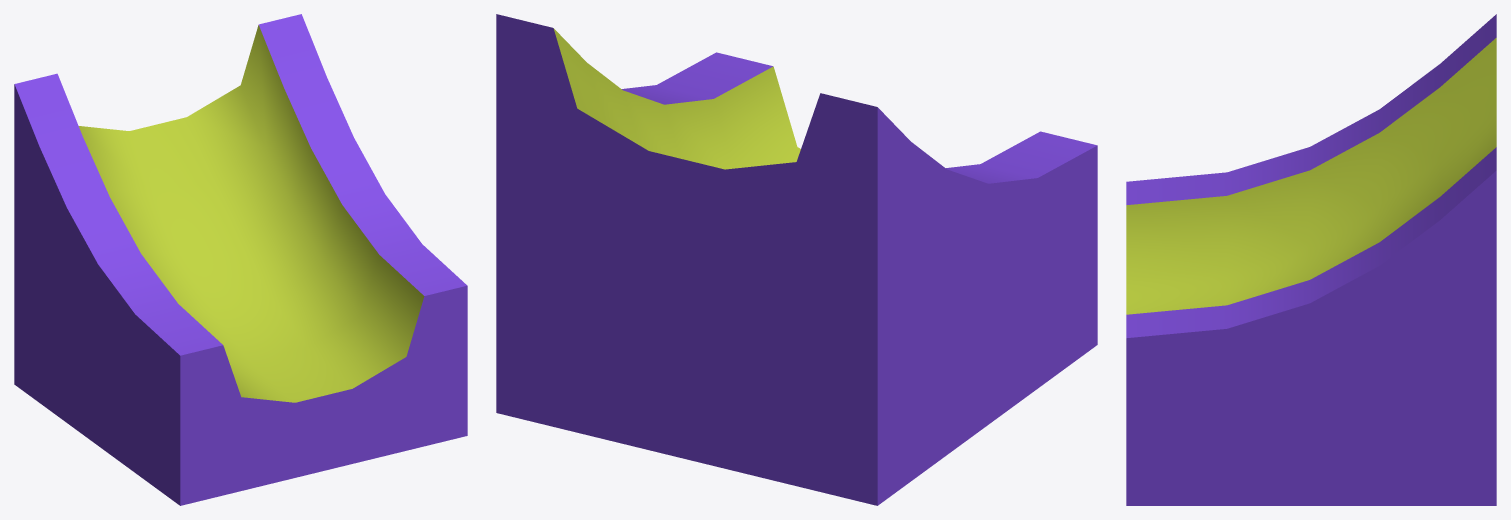
The model's file is rampStart_solid_C-col.dae.
3 renders of one model, left to right at view 1: azimuth 30°, elevation 25°; view 2: azimuth 150°, elevation 25°; view 3: azimuth 270°, elevation 25°, orthographic. The views are drawn at different scales.
Visible parts, largest first — view 1: rampStart_solid_C-col; view 2: rampStart_solid_C-col; view 3: rampStart_solid_C-col.
Boxes of the visible parts, x1,y1,x2,y2 form: rampStart_solid_C-col: (14,14,467,505); rampStart_solid_C-col: (496,14,1097,505); rampStart_solid_C-col: (1126,14,1496,505).
Size of the model in its own units: 1 by 1 by 1.
